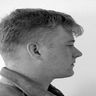ear: (22, 38, 48, 63)
